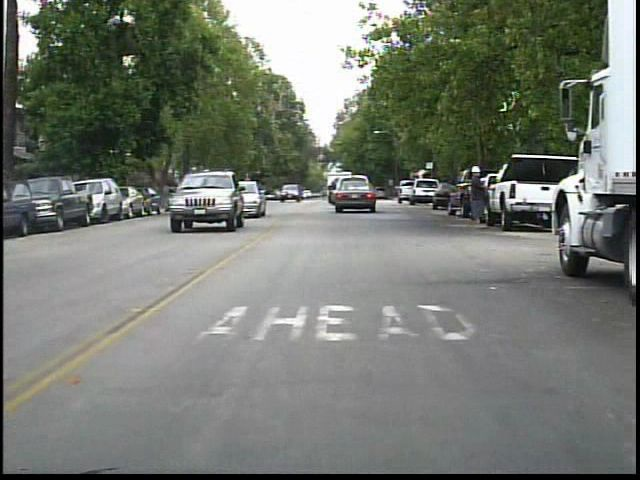person: (462, 162, 493, 233)
